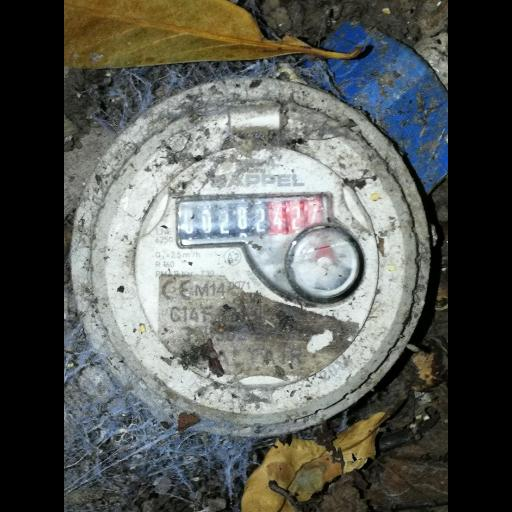0: (180, 205, 199, 239), (197, 205, 216, 239)
2: (213, 204, 235, 238), (286, 199, 308, 233), (251, 202, 270, 237)
4: (267, 201, 288, 236)
7: (305, 197, 326, 227)
8: (233, 203, 254, 238)
border_water_meter_number: (172, 185, 335, 250)
